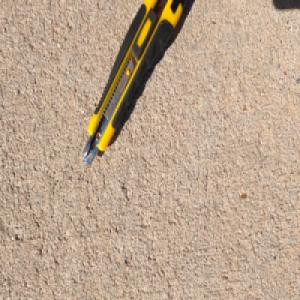Cutter: (80, 0, 188, 166)
